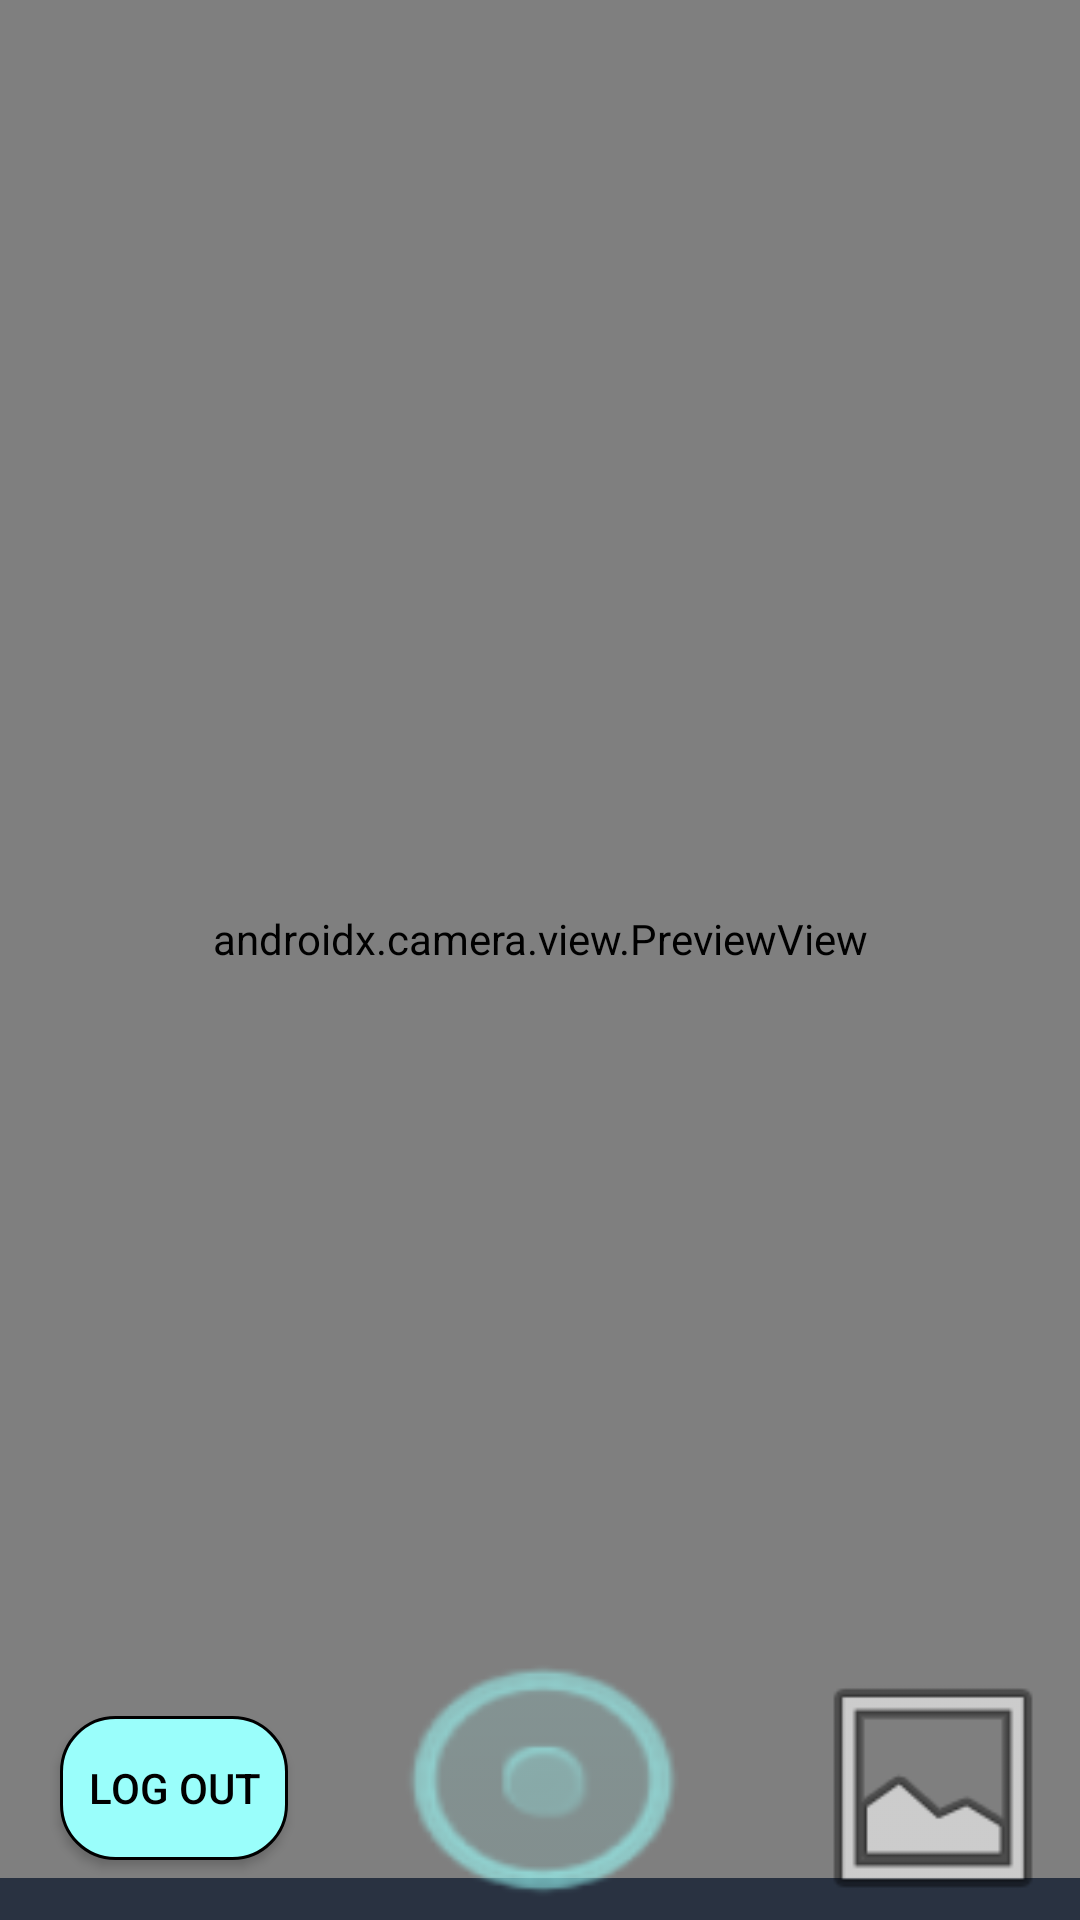

Icons on this 1080w x 1920h Android screen, each with the point to tap as (x=x, y=y):
gallery: (x=933, y=1804)
